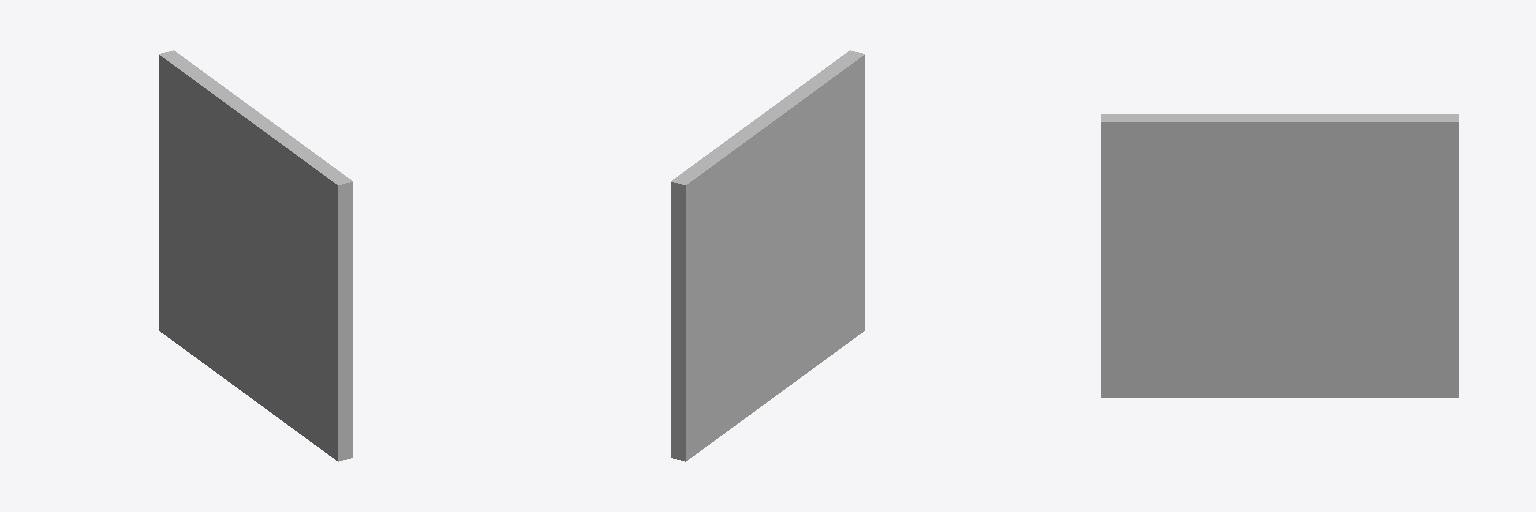
Rendered from sign2.obj.
3 renders of one model, left to right at view 1: azimuth 30°, elevation 25°; view 2: azimuth 150°, elevation 25°; view 3: azimuth 270°, elevation 25°, orthographic.
Size of the model in its own units: 1 by 17 by 20.